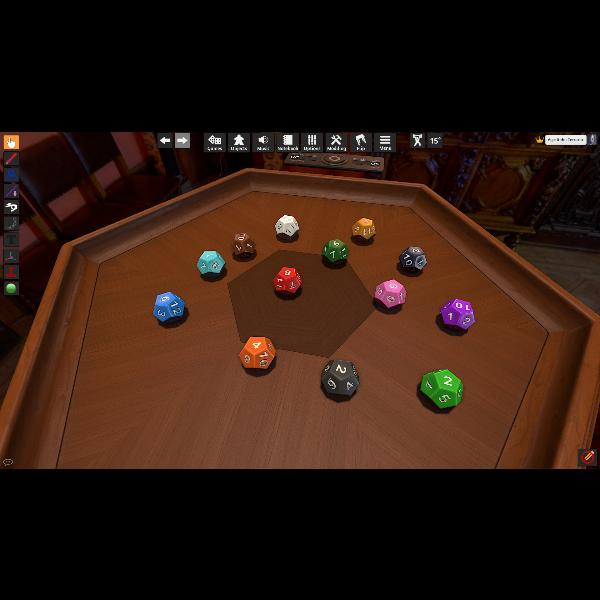d12: (418, 367, 460, 407), (320, 358, 358, 394), (238, 336, 276, 368), (440, 298, 475, 330), (153, 291, 185, 323), (273, 266, 303, 296), (374, 279, 404, 307), (196, 250, 224, 278), (230, 232, 254, 258), (404, 246, 428, 272), (321, 238, 346, 262), (276, 214, 298, 238), (352, 218, 374, 240)
